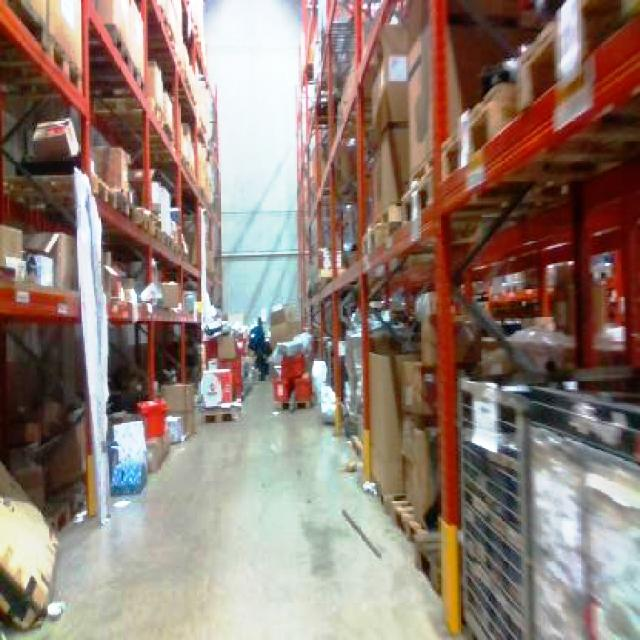ground: (0, 372, 475, 638)
pallet: (295, 0, 638, 638), (454, 372, 638, 638), (82, 0, 220, 314), (363, 346, 442, 595), (0, 442, 60, 635)
